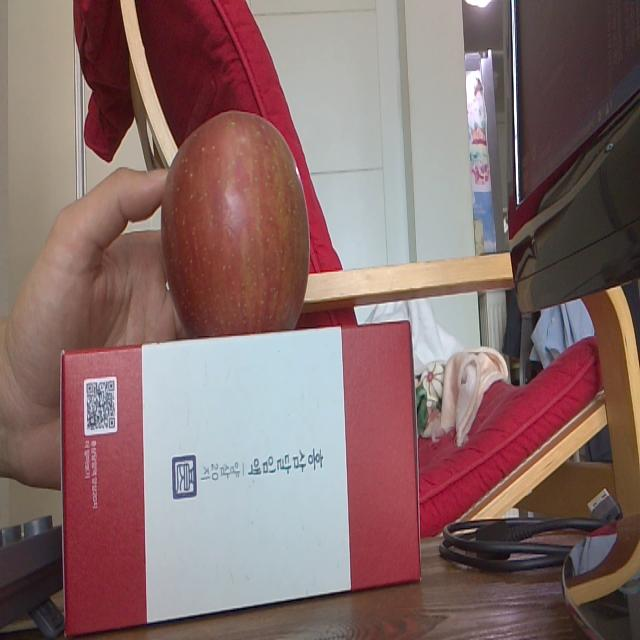apple: (162, 107, 310, 337)
